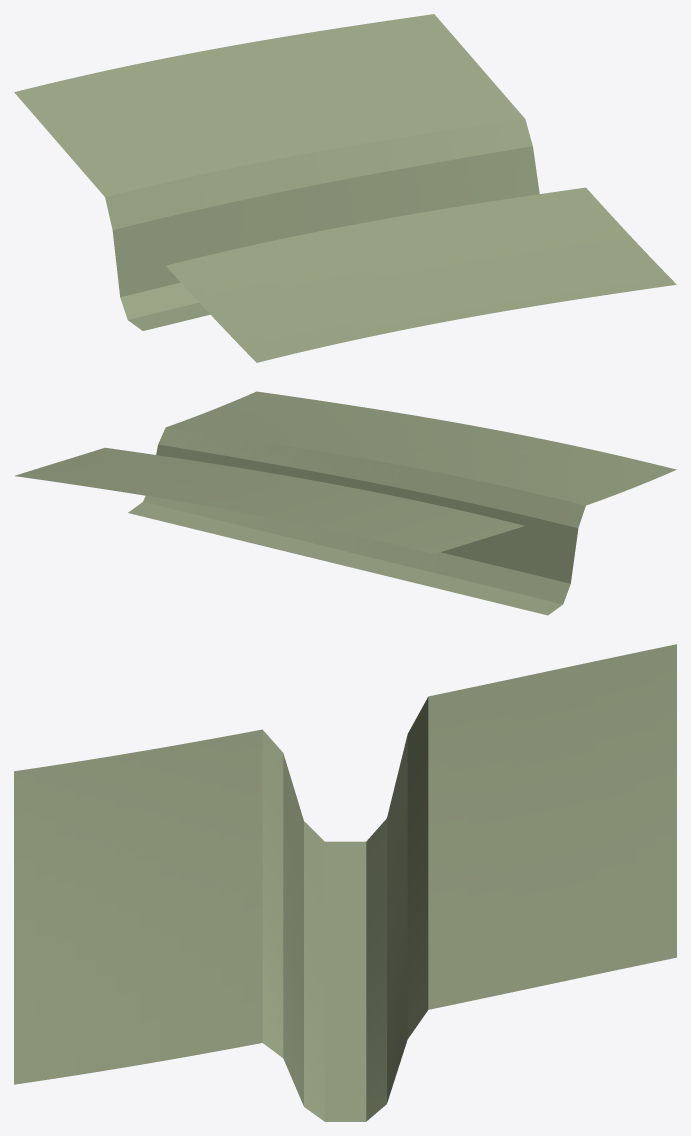
File: valley-11-2.glb
The picture shows the model from 3 angles, top to bottom: view 1: azimuth 30°, elevation 25°; view 2: azimuth 150°, elevation 25°; view 3: azimuth 270°, elevation 25°; orthographic projection. The views are drawn at different scales.
Visible parts, largest first — view 1: valley-11-2; view 2: valley-11-2; view 3: valley-11-2.
Boxes of the visible parts, left/top/right/bottom form: valley-11-2: left=14, top=14, right=676, bottom=362; valley-11-2: left=15, top=391, right=676, bottom=615; valley-11-2: left=14, top=644, right=676, bottom=1121.
Bounding box in the file's own units: 256 × 84.17 × 256.
